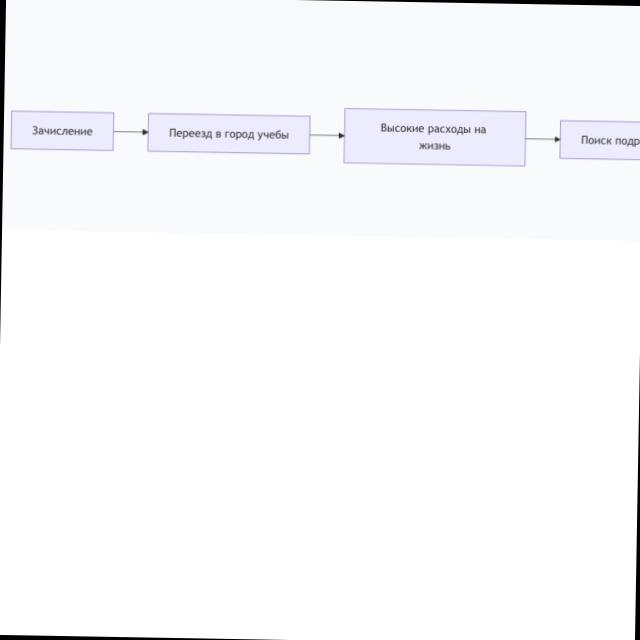arrow: (527, 137, 560, 142), (114, 129, 147, 134), (311, 133, 343, 138)
rectangle: (342, 108, 526, 166), (146, 112, 310, 154), (10, 109, 114, 151)
